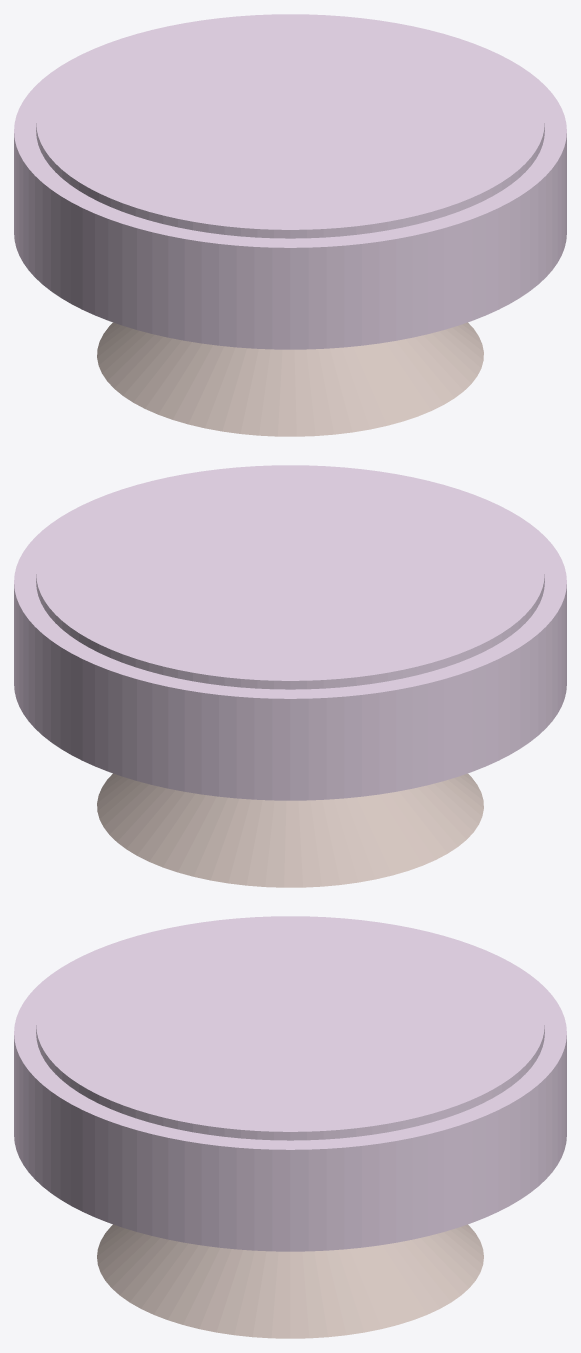
File: 02_zuckerwald.glb
3 renders of one model, top to bottom at view 1: azimuth 30°, elevation 25°; view 2: azimuth 150°, elevation 25°; view 3: azimuth 270°, elevation 25°, orthographic.
Visible parts, largest first — view 1: GrassTop, Island, IslandDrip; view 2: GrassTop, Island, IslandDrip; view 3: GrassTop, Island, IslandDrip.
Boxes of the visible parts, x1,y1,x2,y2 form: GrassTop: [36, 15, 544, 238]; Island: [14, 14, 566, 349]; IslandDrip: [97, 322, 483, 436]; GrassTop: [36, 466, 544, 689]; Island: [14, 465, 566, 800]; IslandDrip: [97, 773, 483, 887]; GrassTop: [36, 917, 544, 1140]; Island: [14, 916, 566, 1251]; IslandDrip: [97, 1224, 483, 1338].
Size of the model in its own units: 6.4 by 2.97 by 6.4.
